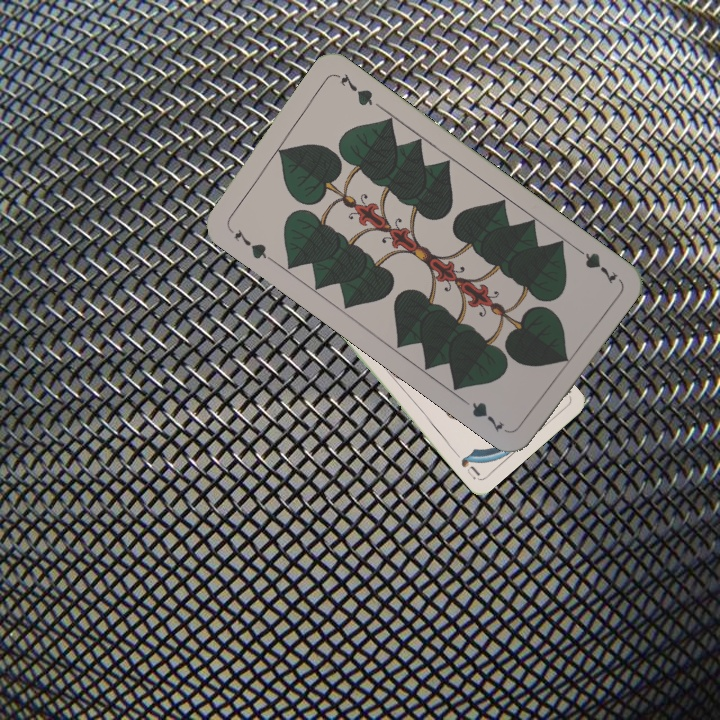G7: (569, 241, 620, 287), (230, 225, 275, 264)
